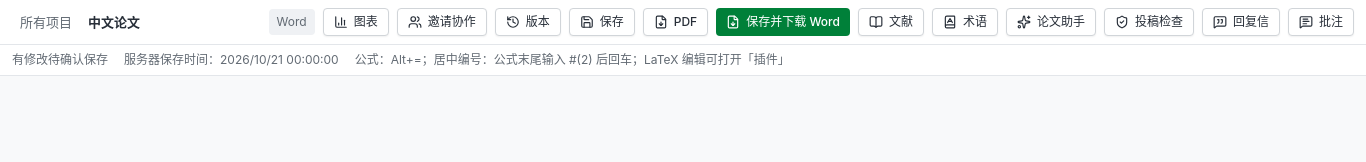
it: Word 工作台 › 返回项目列表时脏稿先保存，失败则留在稿件中
Click the link to "#/" at (46, 22), box [20,14,72,30]
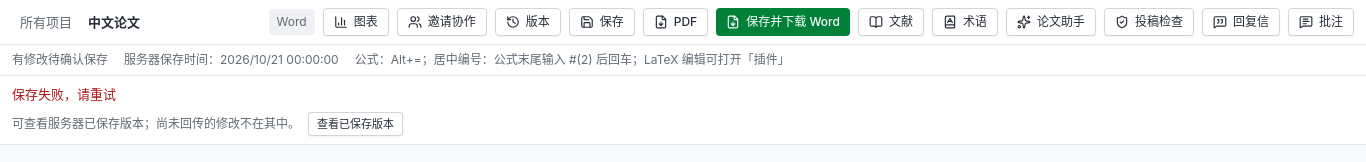
Expected: the text "有修改待确认保存" is shown, [12,51,108,69]
Expected: the text "保存失败，请重试" is shown, [12,86,116,102]
